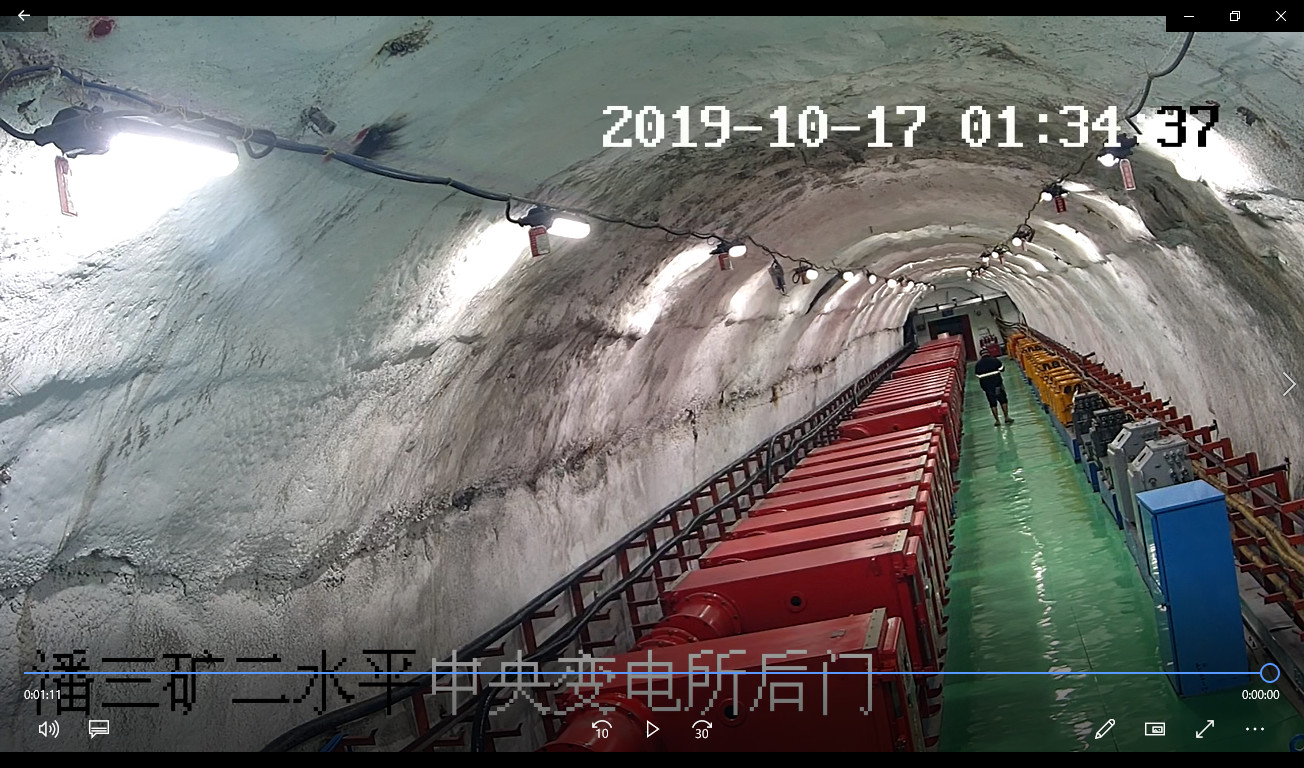helmet: (979, 345, 988, 353)
